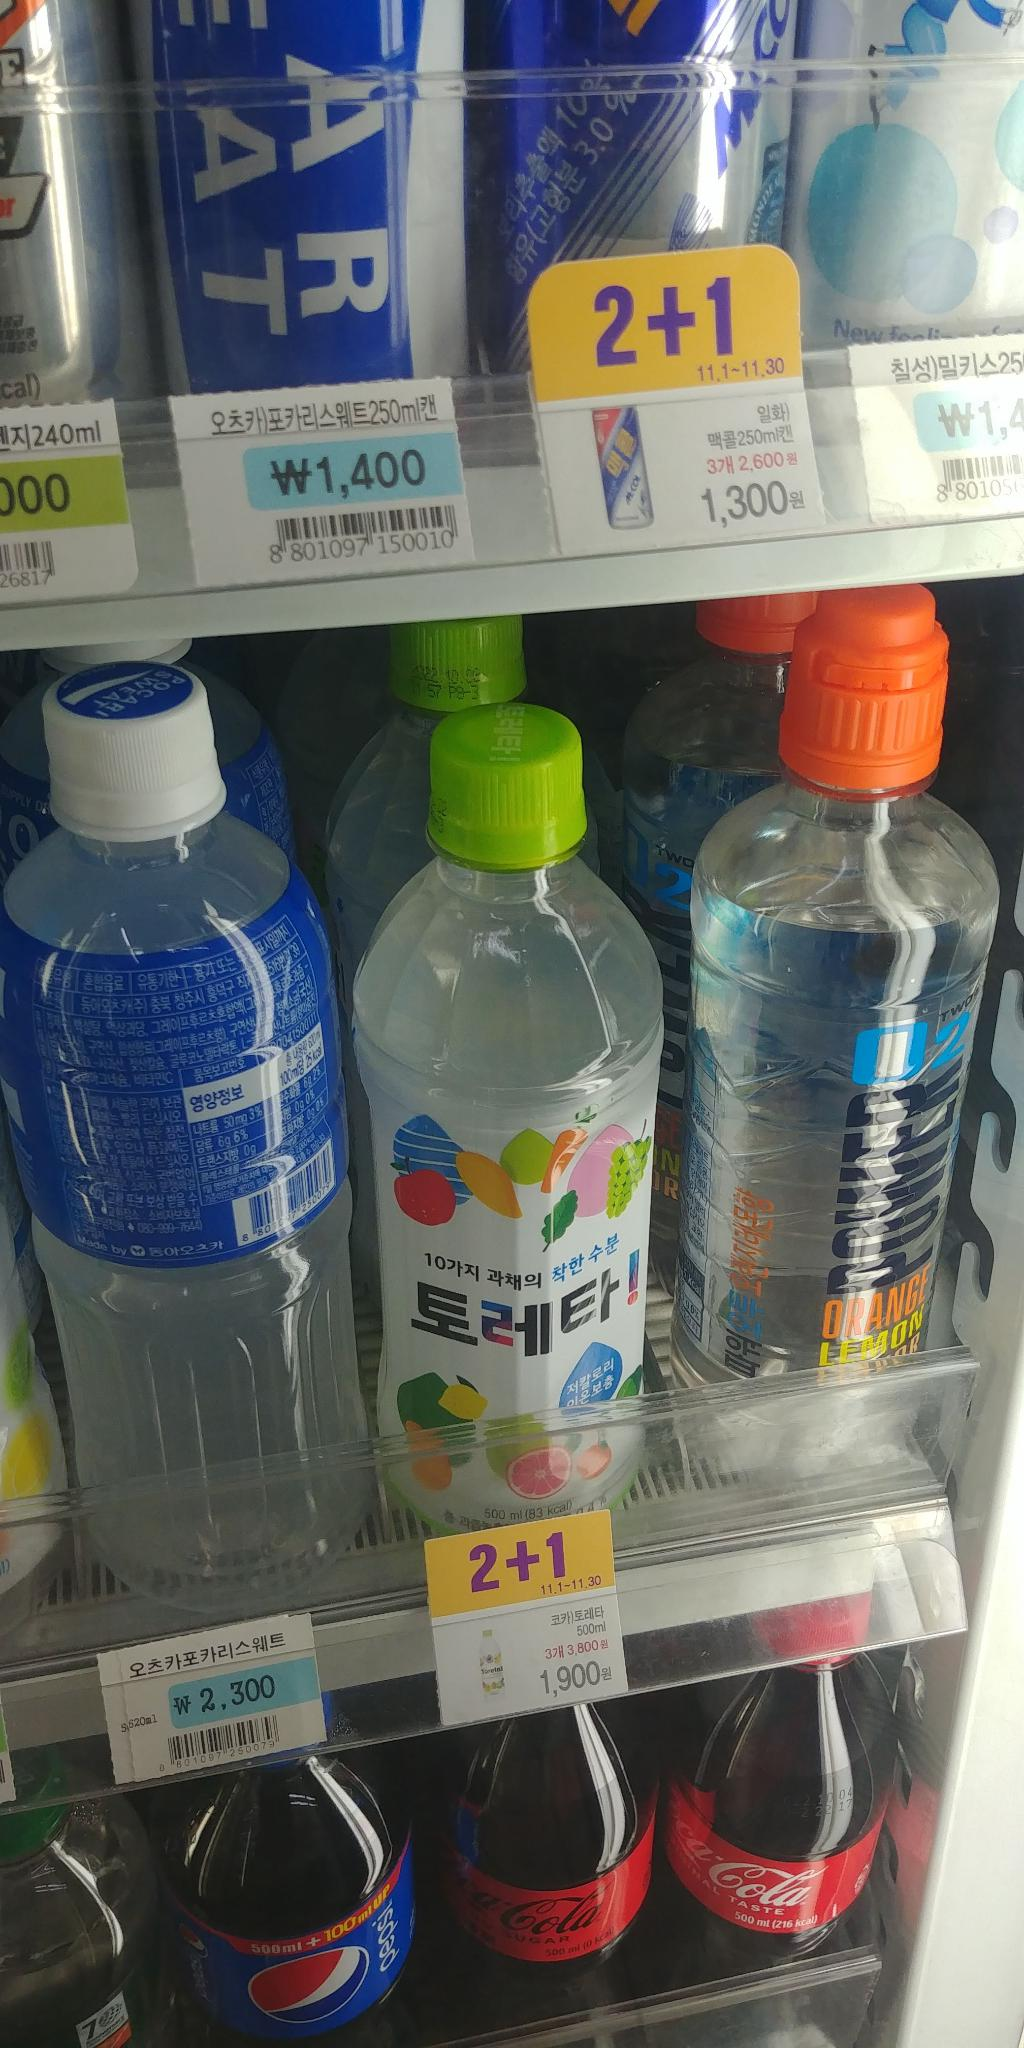pocarisweat: (0, 666, 388, 1601)
powerO2_orange: (675, 554, 1021, 1539)
toreta: (330, 701, 695, 1550)
